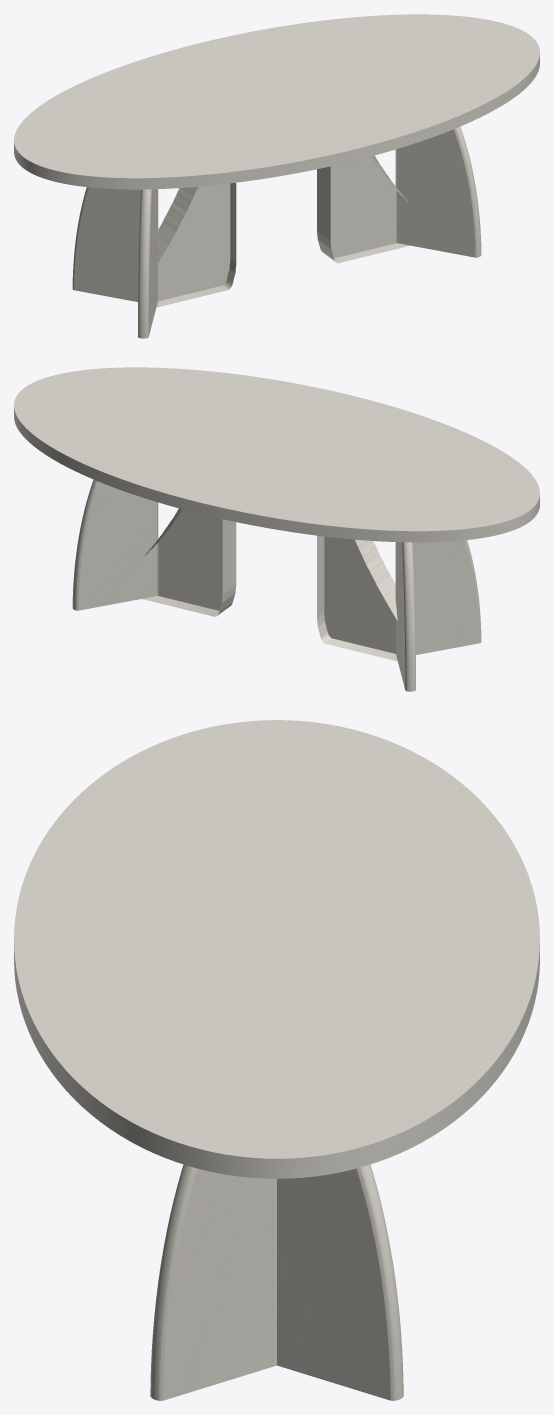
File: pale_ellips_standard_plane.glb
3 renders of one model, top to bottom at view 1: azimuth 30°, elevation 25°; view 2: azimuth 150°, elevation 25°; view 3: azimuth 270°, elevation 25°, orthographic. The views are drawn at different scales.
Parts seen in each view (by area): view 1: standard_ellips, plane_singleright2, plane_single1, plane_single2, plane_singleleft1, plane_singleright1; view 2: standard_ellips, plane_singleleft2, plane_single1, plane_single2, plane_singleright1, plane_singleleft1; view 3: standard_ellips, plane_singleleft2, plane_singleright2.
Part boxes in pixels (bbox=[...]): standard_ellips: bbox=[14, 14, 539, 189]; plane_singleright2: bbox=[395, 127, 481, 257]; plane_single1: bbox=[156, 183, 236, 307]; plane_single2: bbox=[317, 155, 409, 263]; plane_singleleft1: bbox=[72, 187, 158, 301]; plane_singleright1: bbox=[138, 189, 157, 338]; standard_ellips: bbox=[14, 367, 539, 542]; plane_singleleft2: bbox=[72, 480, 158, 610]; plane_single1: bbox=[317, 535, 397, 661]; plane_single2: bbox=[142, 508, 236, 616]; plane_singleright1: bbox=[395, 540, 481, 654]; plane_singleleft1: bbox=[396, 542, 415, 691]; standard_ellips: bbox=[14, 720, 539, 1178]; plane_singleleft2: bbox=[277, 1164, 403, 1400]; plane_singleright2: bbox=[150, 1164, 276, 1400].
Bounding box in the file's own units: 7.5 × 2.49 × 3.8.
Materials: 1 (1 with a texture image).
